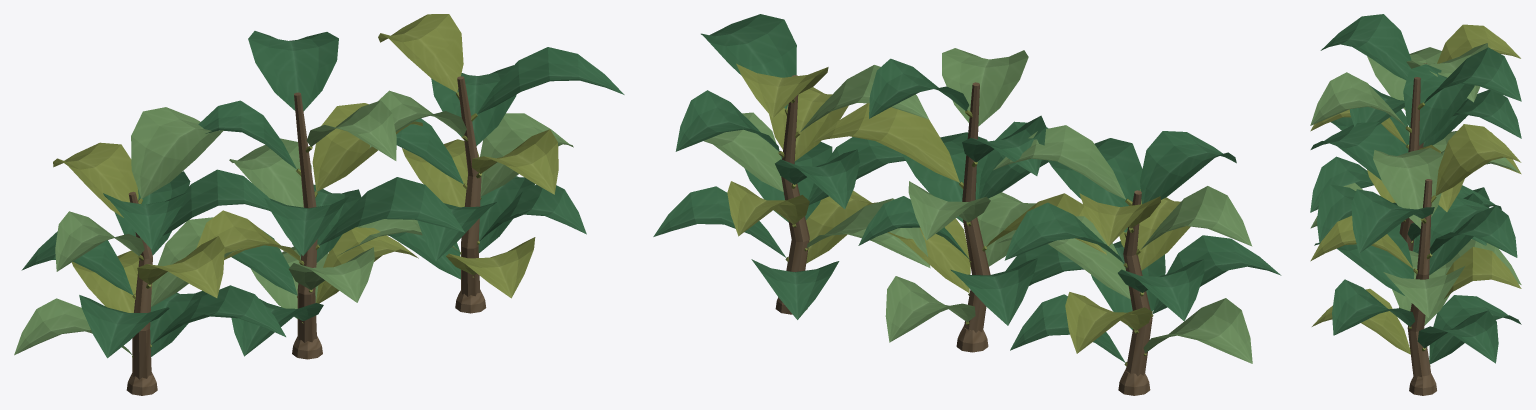
The model's file is AST-BOT-002_pool_middle_04.glb.
3 renders of one model, left to right at view 1: azimuth 30°, elevation 25°; view 2: azimuth 150°, elevation 25°; view 3: azimuth 270°, elevation 25°, orthographic. The views are drawn at different scales.
Visible parts, largest first — view 1: RT_AST-BOT-002_pool_middle_04__leaf_jade, RT_AST-BOT-002_pool_middle_04__leaf_olive, RT_AST-BOT-002_pool_middle_04__leaf_sage, RT_AST-BOT-002_pool_middle_04__bark; view 2: RT_AST-BOT-002_pool_middle_04__leaf_jade, RT_AST-BOT-002_pool_middle_04__leaf_sage, RT_AST-BOT-002_pool_middle_04__leaf_olive, RT_AST-BOT-002_pool_middle_04__bark; view 3: RT_AST-BOT-002_pool_middle_04__leaf_jade, RT_AST-BOT-002_pool_middle_04__leaf_sage, RT_AST-BOT-002_pool_middle_04__leaf_olive, RT_AST-BOT-002_pool_middle_04__bark.
Boxes of the visible parts, x1,y1,x2,y2 form: RT_AST-BOT-002_pool_middle_04__leaf_jade: [21, 31, 624, 358]; RT_AST-BOT-002_pool_middle_04__leaf_olive: [53, 14, 558, 357]; RT_AST-BOT-002_pool_middle_04__leaf_sage: [14, 90, 573, 355]; RT_AST-BOT-002_pool_middle_04__bark: [126, 76, 486, 395]; RT_AST-BOT-002_pool_middle_04__leaf_jade: [653, 14, 1281, 362]; RT_AST-BOT-002_pool_middle_04__leaf_sage: [704, 48, 1252, 363]; RT_AST-BOT-002_pool_middle_04__leaf_olive: [727, 63, 1190, 366]; RT_AST-BOT-002_pool_middle_04__bark: [775, 75, 1152, 395]; RT_AST-BOT-002_pool_middle_04__leaf_jade: [1310, 14, 1521, 364]; RT_AST-BOT-002_pool_middle_04__leaf_sage: [1310, 43, 1521, 325]; RT_AST-BOT-002_pool_middle_04__leaf_olive: [1310, 24, 1521, 366]; RT_AST-BOT-002_pool_middle_04__bark: [1399, 63, 1436, 395].
Bounding box in the file's own units: 2.09 × 1 × 0.74.
Materials: 4 (4 with a texture image).
